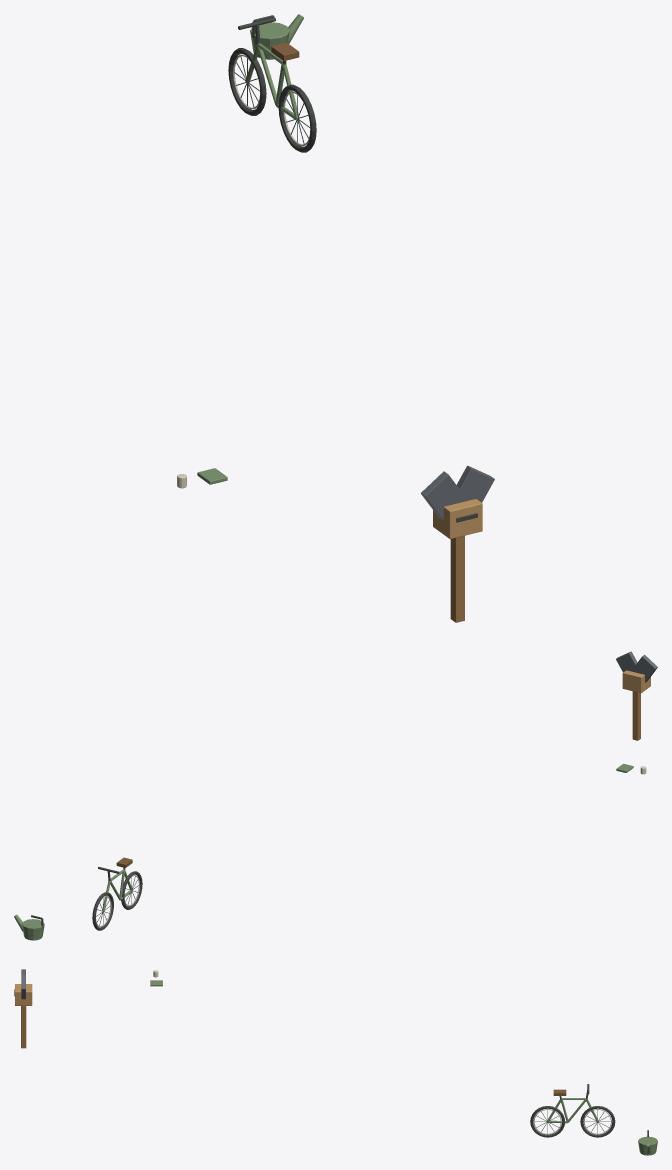
File: SM_PlayerHouse_SmallProps.fbx
3 views of the same model, one above another, from view 1: azimuth 30°, elevation 25°; view 2: azimuth 150°, elevation 25°; view 3: azimuth 270°, elevation 25° (orthographic). The views are drawn at different scales.
Visible parts, largest first — view 1: SM_PlayerHouse_SmallProps; view 2: SM_PlayerHouse_SmallProps; view 3: SM_PlayerHouse_SmallProps.
Part boxes in pixels (x1,y1,x2,y2): SM_PlayerHouse_SmallProps: (177, 14, 494, 622); SM_PlayerHouse_SmallProps: (14, 651, 657, 940); SM_PlayerHouse_SmallProps: (14, 969, 657, 1155).
Size of the model in its own units: 783 by 1413 by 185.
